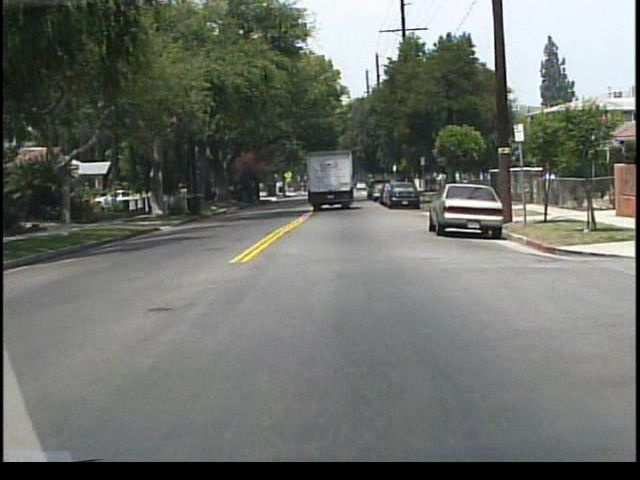person: (540, 167, 555, 205)
